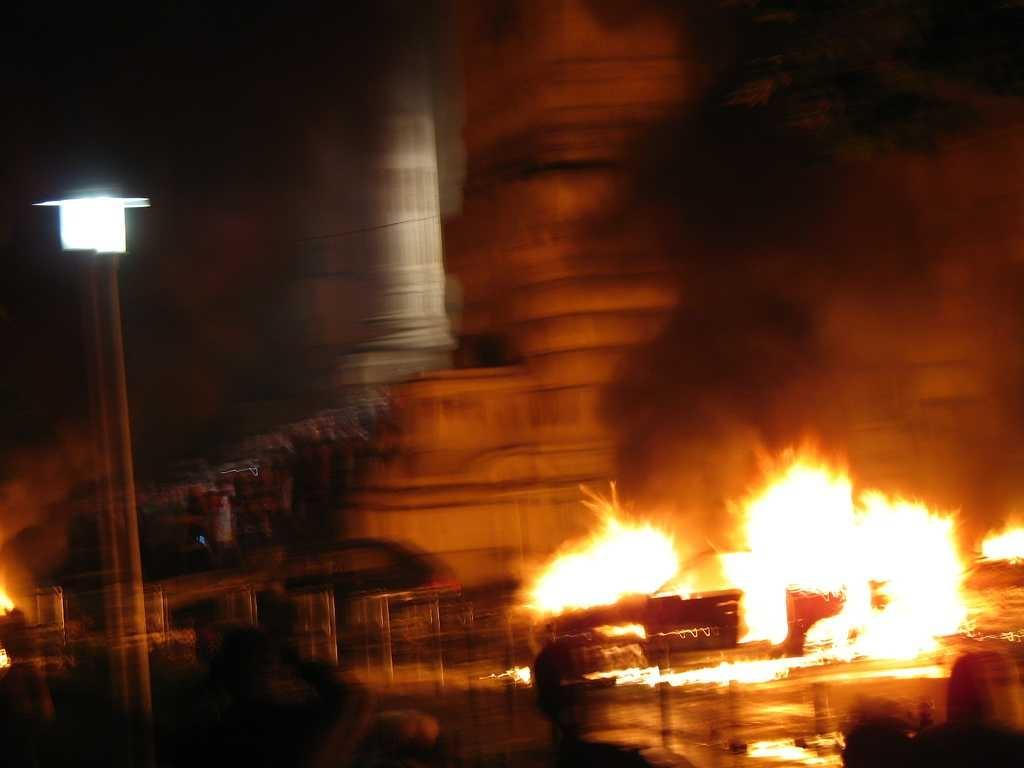fire: (754, 480, 948, 658), (520, 546, 686, 602)
